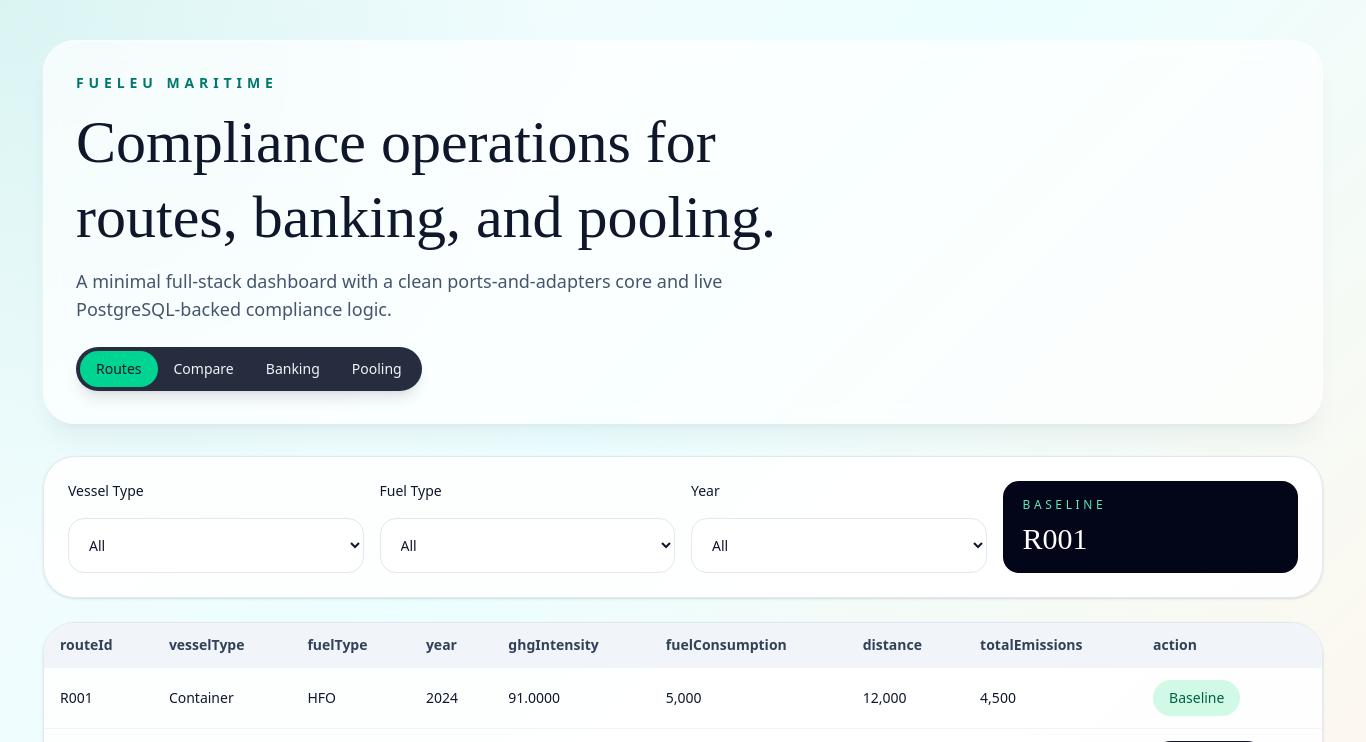
Test case: App › disables pool creation when the selected sum is negative
The width and height of the screenshot is (1366, 742).
Click the button "Pooling". click: (377, 369)
box: [336,351,418,387]
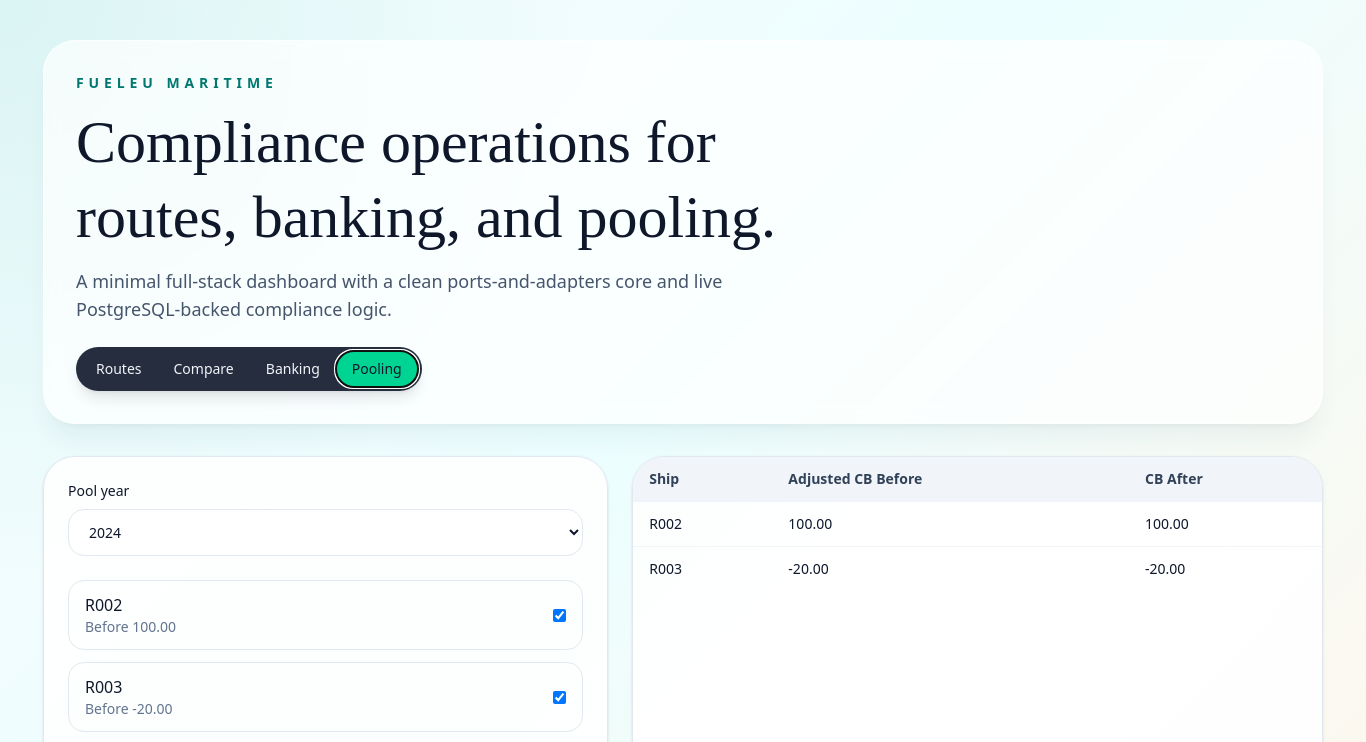
Click the checkbox labelled "R002 Before 100.00". click: (560, 615)
box: [553,608,566,622]
(page scrolled)
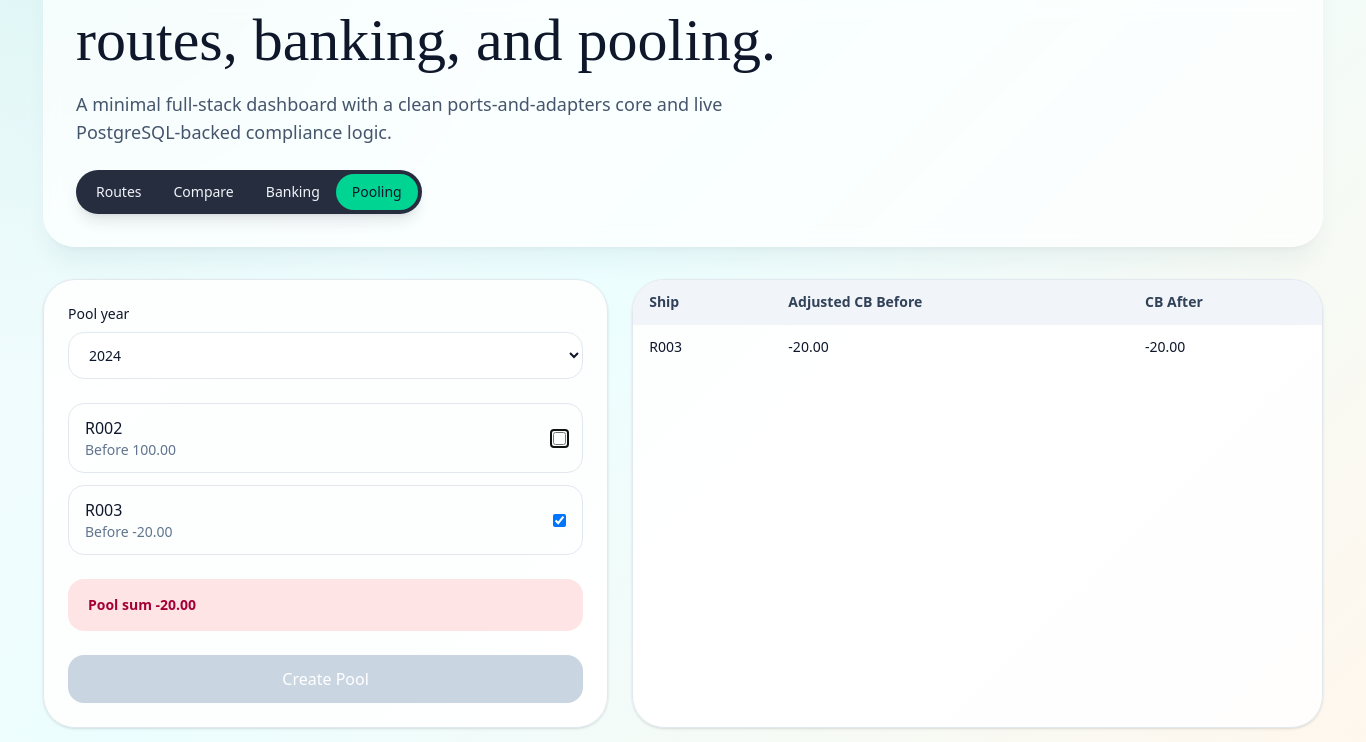
Check: the button "Create Pool" is disabled, box [68,655,583,703]
